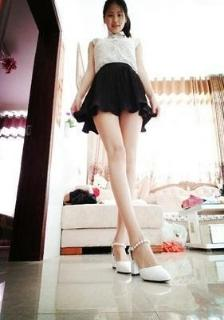short sleeve top: (92, 29, 140, 75)
skirt: (73, 62, 158, 134)
